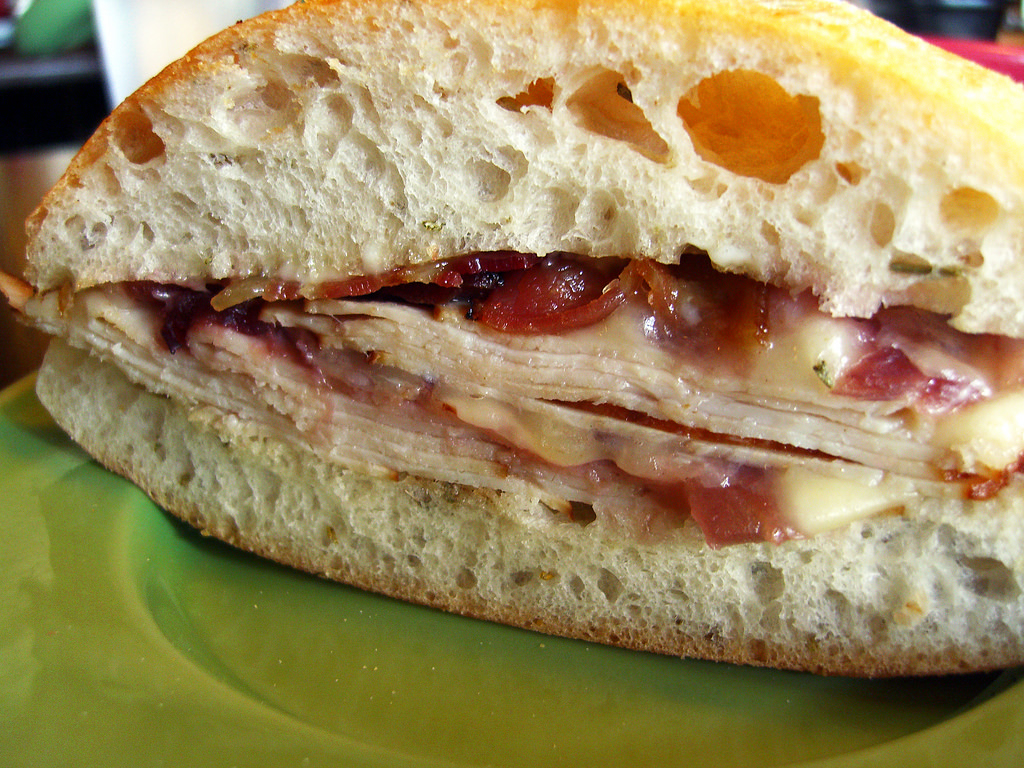slice of bread: (83, 361, 1024, 663), (101, 25, 1024, 309)
